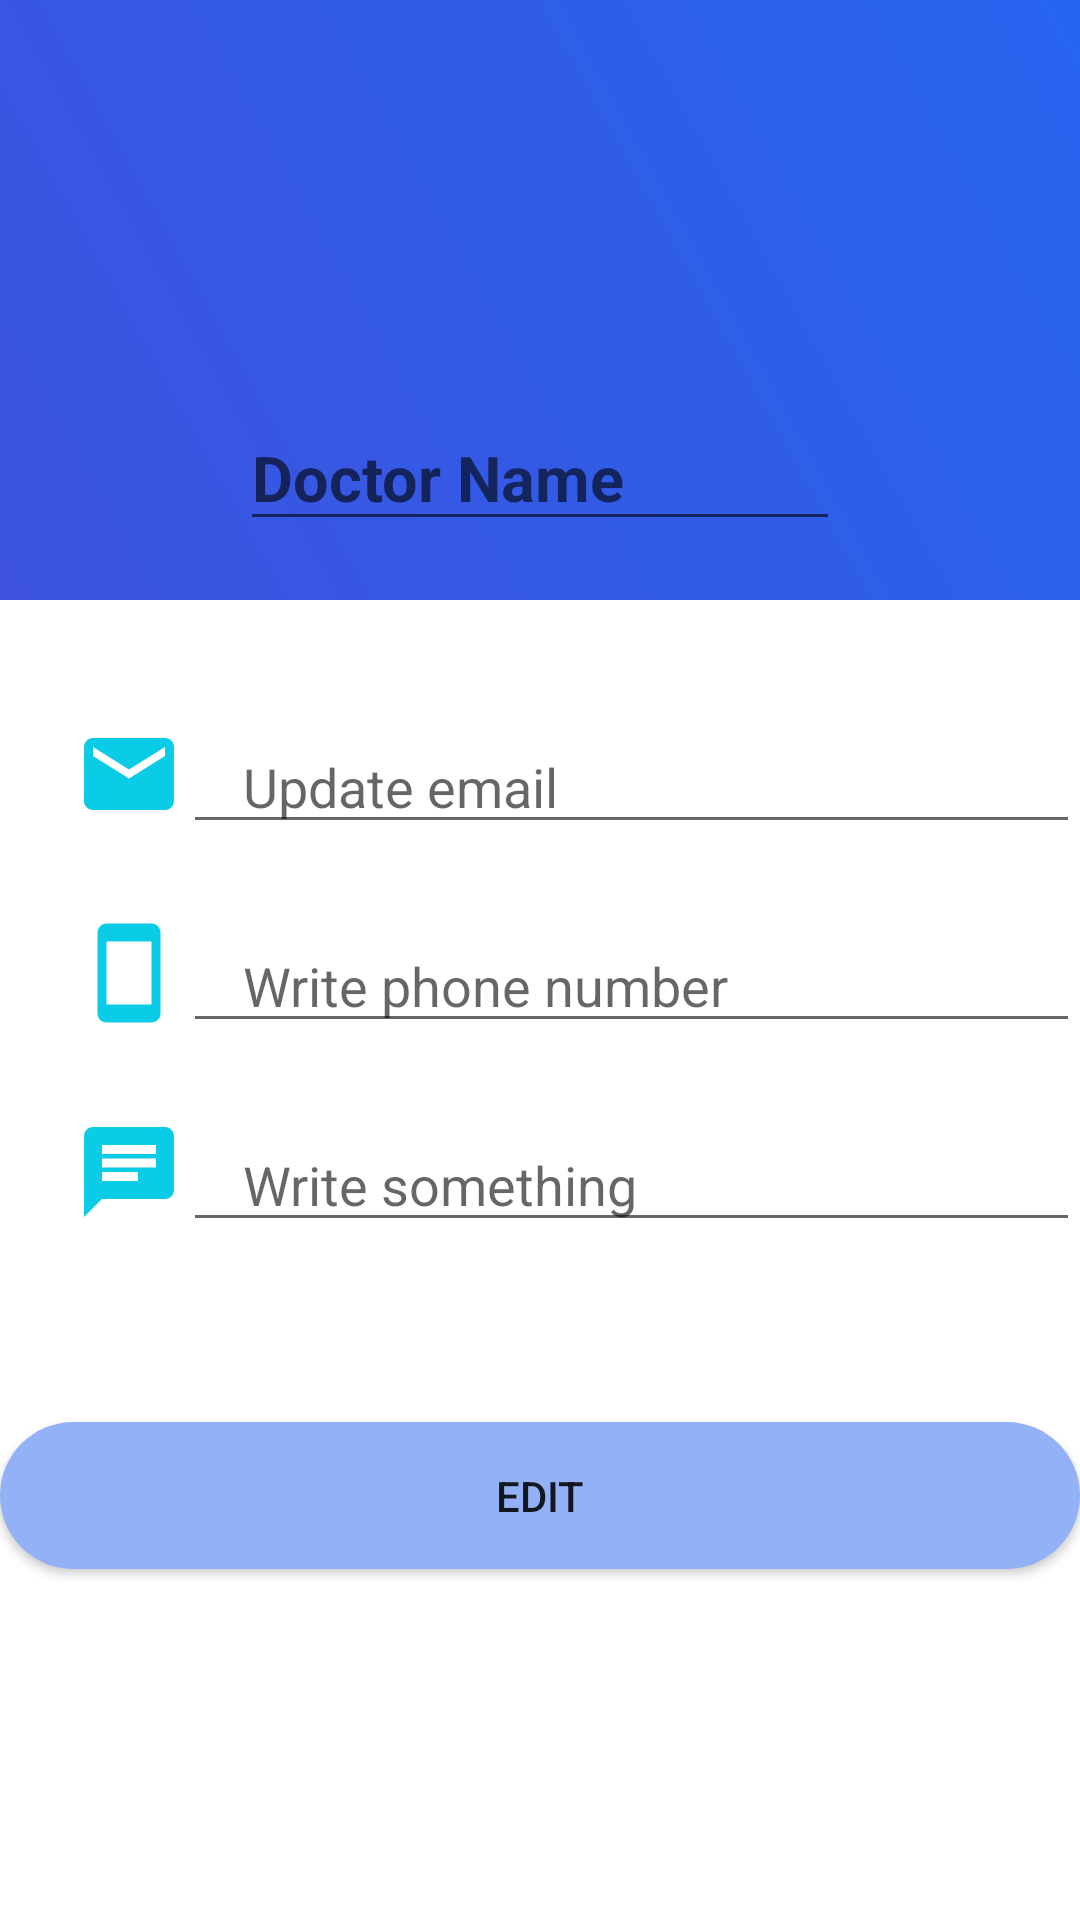

Screen size 1080 × 1920. Icon name, then its center in pixels as (x,y):
chat: (129,1172)
smartphone: (129,973)
